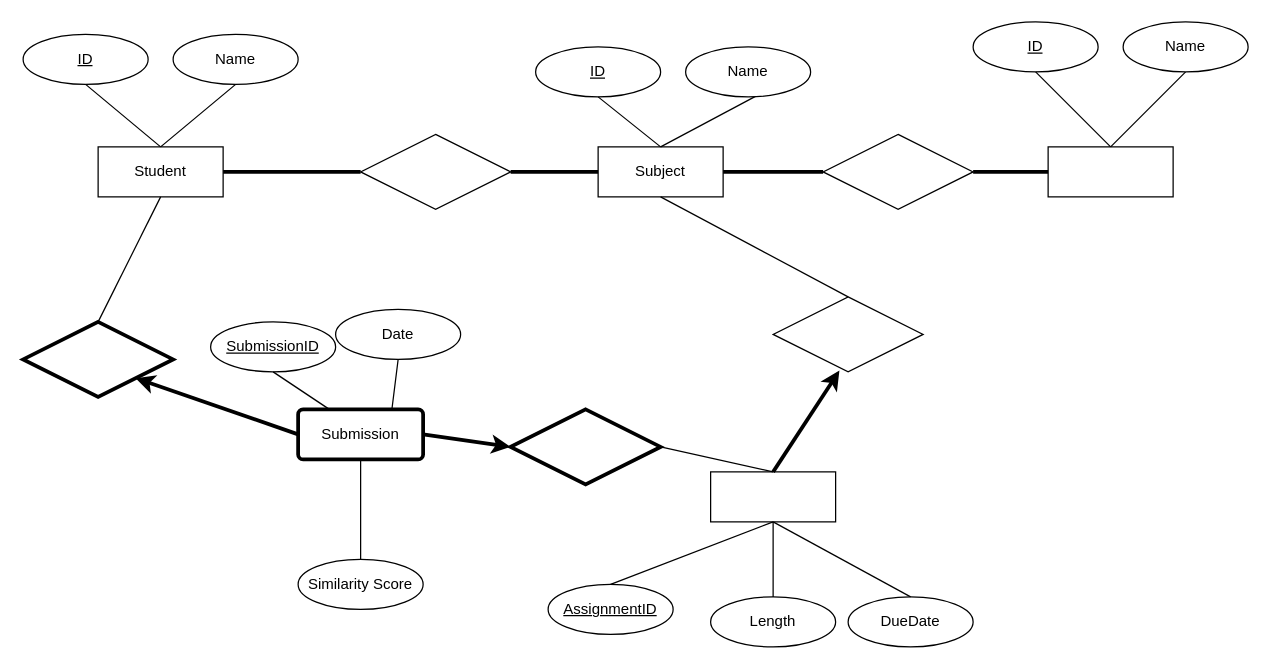
Image size: 1270x669. Some labels were removed from this diagram. Each missing label, with the centre of its shape:
Academic: point 1110,171
Assignment: point 772,496
assigns: point 847,334
creates: point 97,358
studies: point 435,171
submitted: point 585,446
teaches: point 897,171
